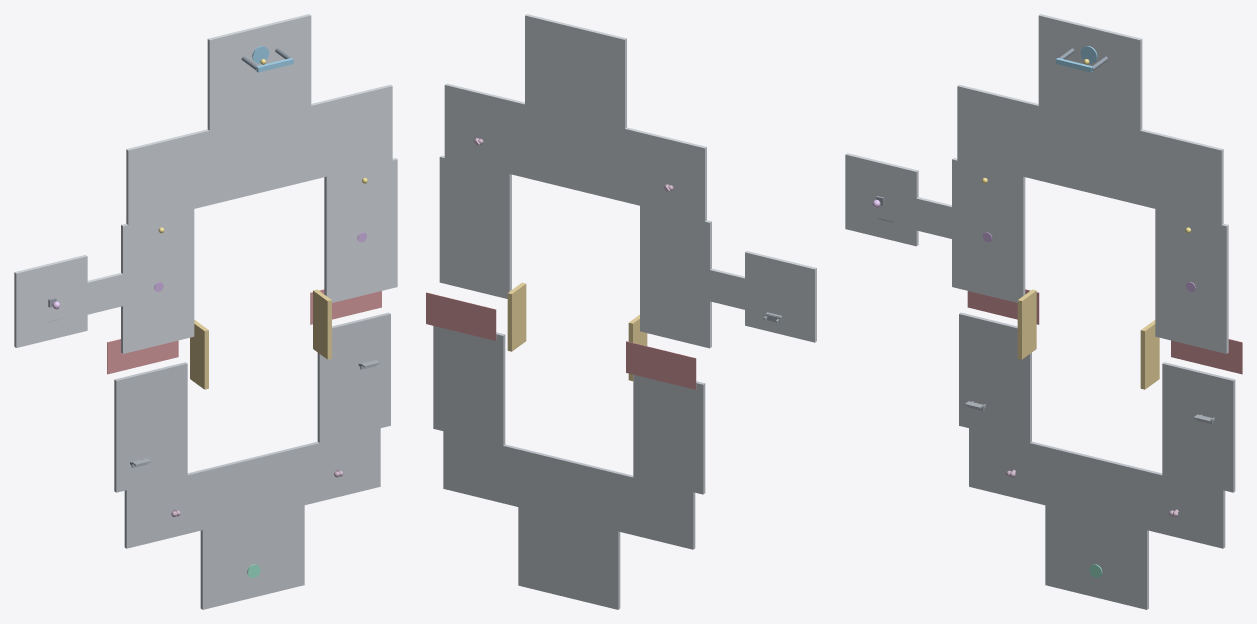
File: level_07_valentine_s_day__romantic.glb
3 views of the same model, side by side, from view 1: azimuth 30°, elevation 25°; view 2: azimuth 150°, elevation 25°; view 3: azimuth 330°, elevation 25° (orthographic).
Parts seen in each view (by area): view 1: REUNION_PLAZA_0007, FORK_PLAZA_0002, RIGHT_WALKWAY_B_0006, LEFT_WALKWAY_B_0004, HEART_EXIT_0008, PARK_ENTRANCE_0001, LEFT_WALKWAY_A_0003, RIGHT_WALKWAY_A_0005, STORY_GARDEN_0016, VOID_DEBUG_NONCOLLIDING_0009, MEMORY_GARDEN_BRANCH_SEG1_0015, WALL_RUN_SURFACE_0012 (+2 smaller); view 2: REUNION_PLAZA_0007, FORK_PLAZA_0002, HEART_EXIT_0008, RIGHT_WALKWAY_B_0006, PARK_ENTRANCE_0001, LEFT_WALKWAY_B_0004, RIGHT_WALKWAY_A_0005, LEFT_WALKWAY_A_0003, STORY_GARDEN_0016, MEMORY_GARDEN_BRANCH_SEG1_0015, VOID_DEBUG_NONCOLLIDING_0010, VOID_DEBUG_NONCOLLIDING_0009 (+1 smaller); view 3: REUNION_PLAZA_0007, FORK_PLAZA_0002, RIGHT_WALKWAY_B_0006, LEFT_WALKWAY_B_0004, HEART_EXIT_0008, PARK_ENTRANCE_0001, RIGHT_WALKWAY_A_0005, LEFT_WALKWAY_A_0003, STORY_GARDEN_0016, MEMORY_GARDEN_BRANCH_SEG1_0015, VOID_DEBUG_NONCOLLIDING_0010, WALL_RUN_SURFACE_0011 (+2 smaller).
Boxes of the visible parts, bbox=[...] form: REUNION_PLAZA_0007: bbox=[126, 84, 392, 224]; FORK_PLAZA_0002: bbox=[124, 428, 380, 548]; RIGHT_WALKWAY_B_0006: bbox=[324, 158, 397, 302]; LEFT_WALKWAY_B_0004: bbox=[121, 209, 194, 353]; HEART_EXIT_0008: bbox=[207, 14, 311, 130]; PARK_ENTRANCE_0001: bbox=[200, 494, 304, 609]; LEFT_WALKWAY_A_0003: bbox=[114, 362, 187, 492]; RIGHT_WALKWAY_A_0005: bbox=[317, 312, 390, 442]; STORY_GARDEN_0016: bbox=[14, 255, 87, 347]; VOID_DEBUG_NONCOLLIDING_0009: bbox=[107, 339, 178, 374]; MEMORY_GARDEN_BRANCH_SEG1_0015: bbox=[68, 267, 157, 314]; WALL_RUN_SURFACE_0012: bbox=[313, 289, 331, 359]; REUNION_PLAZA_0007: bbox=[444, 83, 706, 221]; FORK_PLAZA_0002: bbox=[443, 431, 695, 549]; HEART_EXIT_0008: bbox=[525, 14, 626, 128]; RIGHT_WALKWAY_B_0006: bbox=[439, 155, 511, 298]; PARK_ENTRANCE_0001: bbox=[518, 496, 620, 609]; LEFT_WALKWAY_B_0004: bbox=[640, 206, 711, 348]; RIGHT_WALKWAY_A_0005: bbox=[433, 326, 505, 445]; LEFT_WALKWAY_A_0003: bbox=[633, 374, 705, 494]; STORY_GARDEN_0016: bbox=[745, 251, 816, 342]; MEMORY_GARDEN_BRANCH_SEG1_0015: bbox=[676, 263, 763, 314]; VOID_DEBUG_NONCOLLIDING_0010: bbox=[426, 292, 496, 340]; VOID_DEBUG_NONCOLLIDING_0009: bbox=[626, 341, 696, 389]; REUNION_PLAZA_0007: bbox=[957, 84, 1223, 224]; FORK_PLAZA_0002: bbox=[969, 428, 1225, 548]; RIGHT_WALKWAY_B_0006: bbox=[1155, 209, 1228, 353]; LEFT_WALKWAY_B_0004: bbox=[952, 158, 1025, 302]; HEART_EXIT_0008: bbox=[1038, 14, 1142, 130]; PARK_ENTRANCE_0001: bbox=[1045, 495, 1148, 609]; RIGHT_WALKWAY_A_0005: bbox=[1162, 362, 1235, 492]; LEFT_WALKWAY_A_0003: bbox=[959, 312, 1031, 442]; STORY_GARDEN_0016: bbox=[845, 153, 918, 246]; MEMORY_GARDEN_BRANCH_SEG1_0015: bbox=[897, 194, 951, 238]; VOID_DEBUG_NONCOLLIDING_0010: bbox=[1171, 339, 1242, 374]; WALL_RUN_SURFACE_0011: bbox=[1017, 289, 1036, 359].
Bounding box in the file's own units: 75 × 108 × 10.79.
